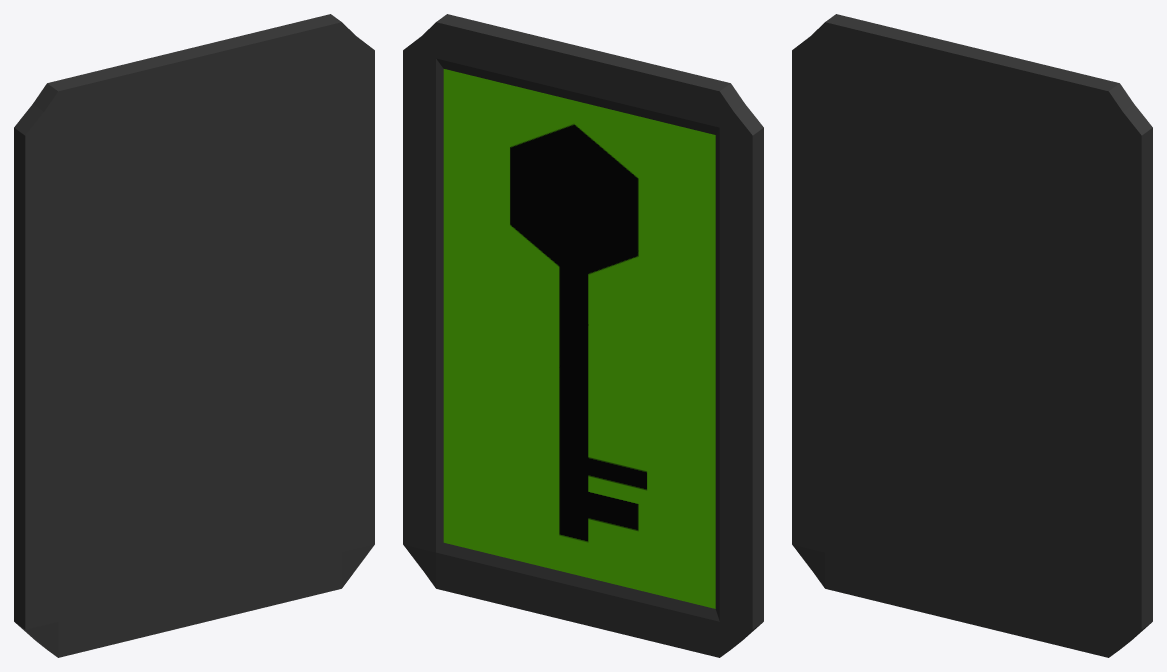
Rendered from Tarjeta_Llave.fbx.
3 renders of one model, left to right at view 1: azimuth 30°, elevation 25°; view 2: azimuth 150°, elevation 25°; view 3: azimuth 330°, elevation 25°, orthographic.
Parts seen in each view (by area): view 1: Cube; view 2: Plane, Cube; view 3: Cube.
Boxes of the visible parts, x1=… form: Cube: x1=14, y1=14, x2=374, y2=657; Plane: x1=443, y1=69, x2=715, y2=608; Cube: x1=403, y1=14, x2=763, y2=657; Cube: x1=792, y1=14, x2=1152, y2=657.
Bounding box in the file's own units: 18.07 × 27.96 × 0.9978.
Materials: 2 (1 with a texture image).
